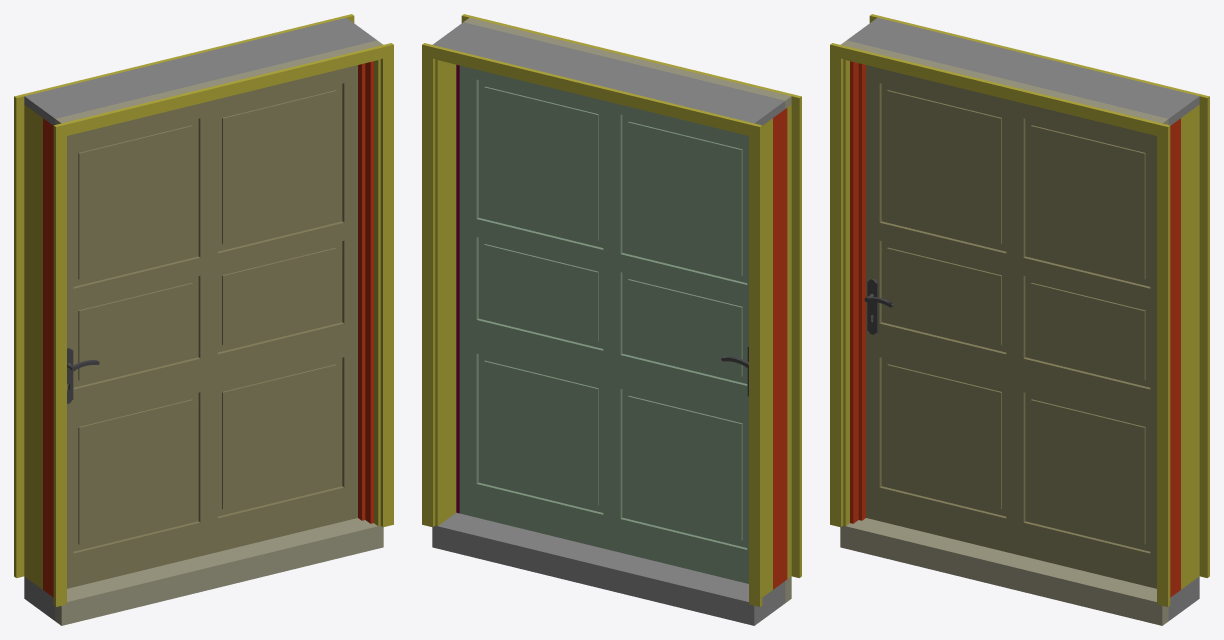
The model's file is Door.obj.
3 renders of one model, left to right at view 1: azimuth 30°, elevation 25°; view 2: azimuth 150°, elevation 25°; view 3: azimuth 330°, elevation 25°, orthographic.
Visible parts, largest first — view 1: DOOR GROUND_FLOOR PAINT_-_GOLDEN_BEIGE, DOOR GROUND_FLOOR PAINT_-_LEAD_OXIDE_YELLOW, WALL GROUND_FLOOR PAINT_-_SAND_BEIGE, DOOR GROUND_FLOOR PAINT_-_CADMIUM_ORANGE, WALL GROUND_FLOOR PAINT_-_LIGHT_GRAY; view 2: DOOR GROUND_FLOOR PAINT_-_CELADON, DOOR GROUND_FLOOR PAINT_-_LEAD_OXIDE_YELLOW, WALL GROUND_FLOOR PAINT_-_LIGHT_GRAY, DOOR GROUND_FLOOR PAINT_-_CADMIUM_ORANGE, WALL GROUND_FLOOR PAINT_-_SAND_BEIGE, DOOR GROUND_FLOOR PAINT_-_BORDEAUX; view 3: DOOR GROUND_FLOOR PAINT_-_GOLDEN_BEIGE, DOOR GROUND_FLOOR PAINT_-_LEAD_OXIDE_YELLOW, WALL GROUND_FLOOR PAINT_-_SAND_BEIGE, DOOR GROUND_FLOOR PAINT_-_CADMIUM_ORANGE, WALL GROUND_FLOOR PAINT_-_LIGHT_GRAY, DOOR GROUND_FLOOR METAL_-_STAINLESS_STEEL FLAT_PART.
Part boxes in pixels (x1,y1,x2,y2): DOOR GROUND_FLOOR PAINT_-_GOLDEN_BEIGE: (67, 65, 357, 588); DOOR GROUND_FLOOR PAINT_-_LEAD_OXIDE_YELLOW: (14, 14, 393, 606); WALL GROUND_FLOOR PAINT_-_SAND_BEIGE: (55, 40, 383, 625); DOOR GROUND_FLOOR PAINT_-_CADMIUM_ORANGE: (43, 61, 373, 597); WALL GROUND_FLOOR PAINT_-_LIGHT_GRAY: (24, 17, 376, 620); DOOR GROUND_FLOOR PAINT_-_CELADON: (459, 65, 748, 583); DOOR GROUND_FLOOR PAINT_-_LEAD_OXIDE_YELLOW: (422, 14, 801, 606); WALL GROUND_FLOOR PAINT_-_LIGHT_GRAY: (432, 22, 785, 625); DOOR GROUND_FLOOR PAINT_-_CADMIUM_ORANGE: (773, 108, 787, 589); WALL GROUND_FLOOR PAINT_-_SAND_BEIGE: (463, 17, 791, 602); DOOR GROUND_FLOOR PAINT_-_BORDEAUX: (456, 64, 459, 513); DOOR GROUND_FLOOR PAINT_-_GOLDEN_BEIGE: (866, 65, 1156, 588); DOOR GROUND_FLOOR PAINT_-_LEAD_OXIDE_YELLOW: (830, 14, 1209, 606); WALL GROUND_FLOOR PAINT_-_SAND_BEIGE: (840, 40, 1168, 625); DOOR GROUND_FLOOR PAINT_-_CADMIUM_ORANGE: (850, 61, 1180, 597); WALL GROUND_FLOOR PAINT_-_LIGHT_GRAY: (847, 17, 1199, 620); DOOR GROUND_FLOOR METAL_-_STAINLESS_STEEL FLAT_PART: (864, 279, 891, 334).
Size of the model in its own units: 1574 by 2237 by 338.
